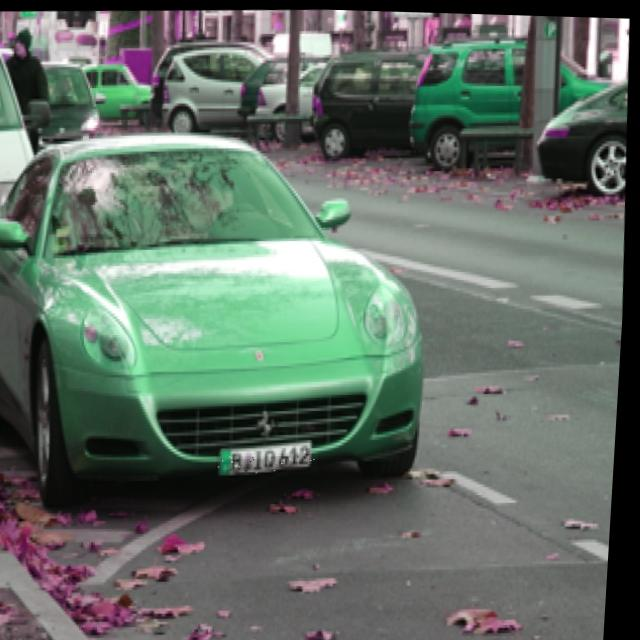license_plate: (222, 446, 323, 476)
